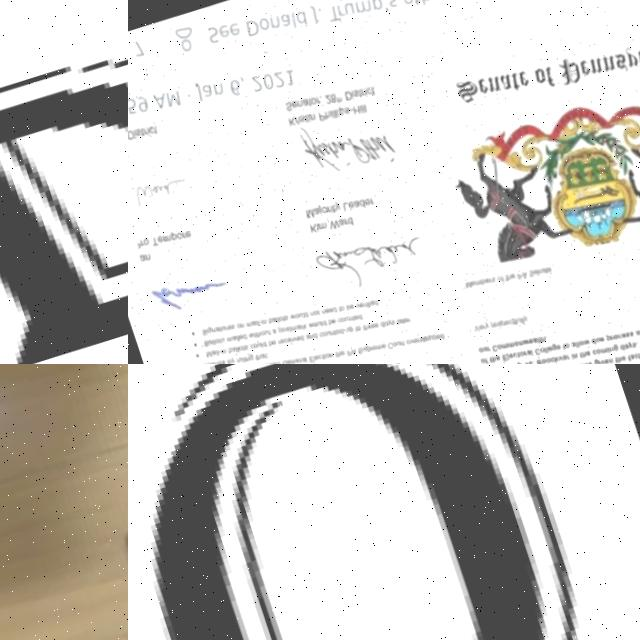0: (128, 364, 640, 640), (259, 72, 276, 92), (272, 358, 280, 364), (265, 360, 271, 364)
1: (280, 67, 297, 88)
2: (247, 72, 264, 94), (269, 69, 286, 90), (321, 92, 332, 106), (268, 360, 276, 364), (262, 362, 268, 364)
5: (128, 96, 138, 116)
6: (225, 77, 242, 97)
7: (129, 39, 146, 59)
8: (328, 92, 337, 105)
9: (133, 94, 150, 115)
P: (0, 56, 128, 364)
